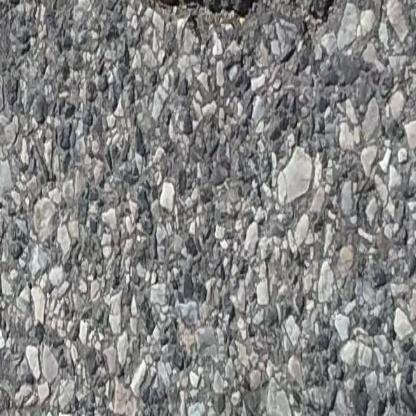Cracks: (51, 0, 349, 27)
